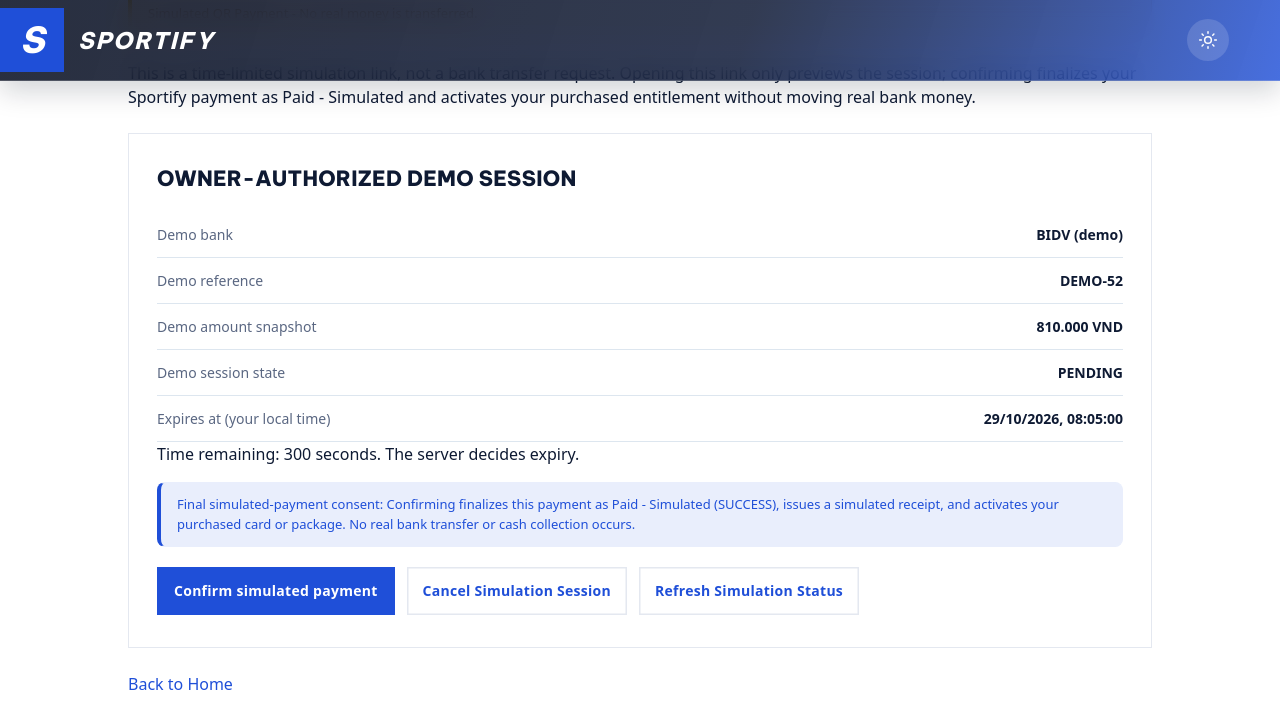
it: QR-04 owner-authorized mobile confirmation › reconciles authoritative SETTLED server state automatically when confirm HTTP response is lost after SQL commit
(page scrolled)
What coordinates should you click on to do the following:
click the button "Confirm simulated payment"
I would click on:
 (276, 591)
Its box is [157, 567, 394, 615].
(page scrolled)
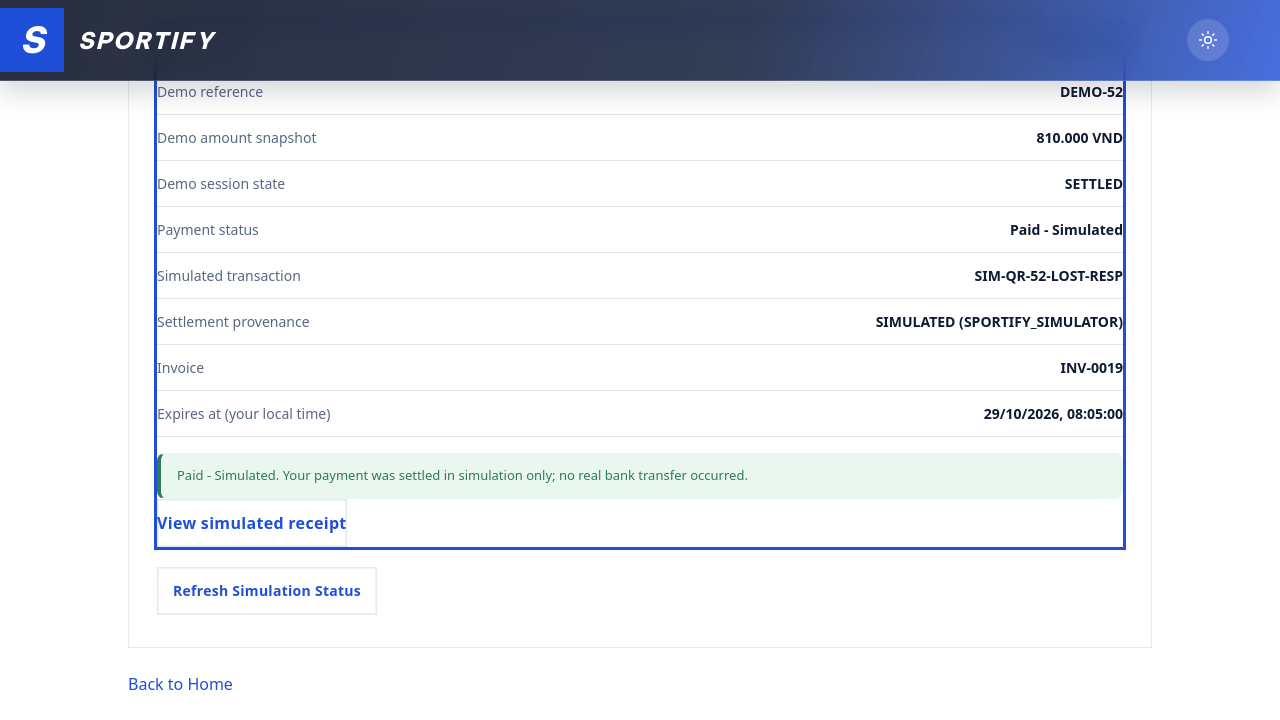
Now the text "Paid - Simulated. Your payment was settled in simulation only" is shown, box [177, 466, 748, 484]
Now the text "SIM-QR-52-LOST-RESP" is shown, box [975, 265, 1123, 286]
